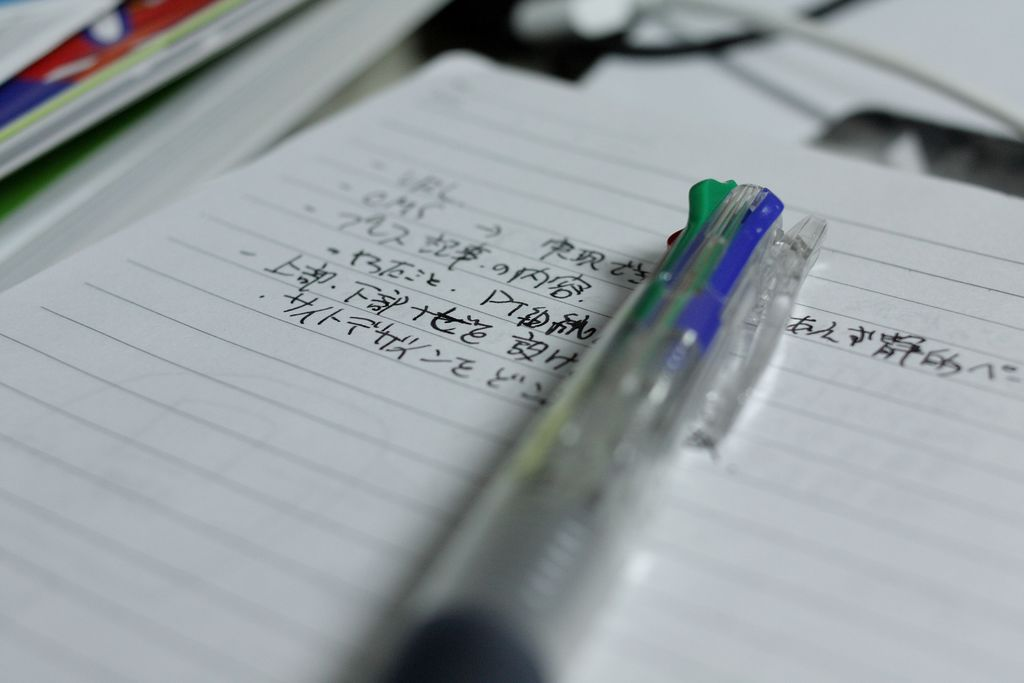Pen: (328, 177, 830, 682)
